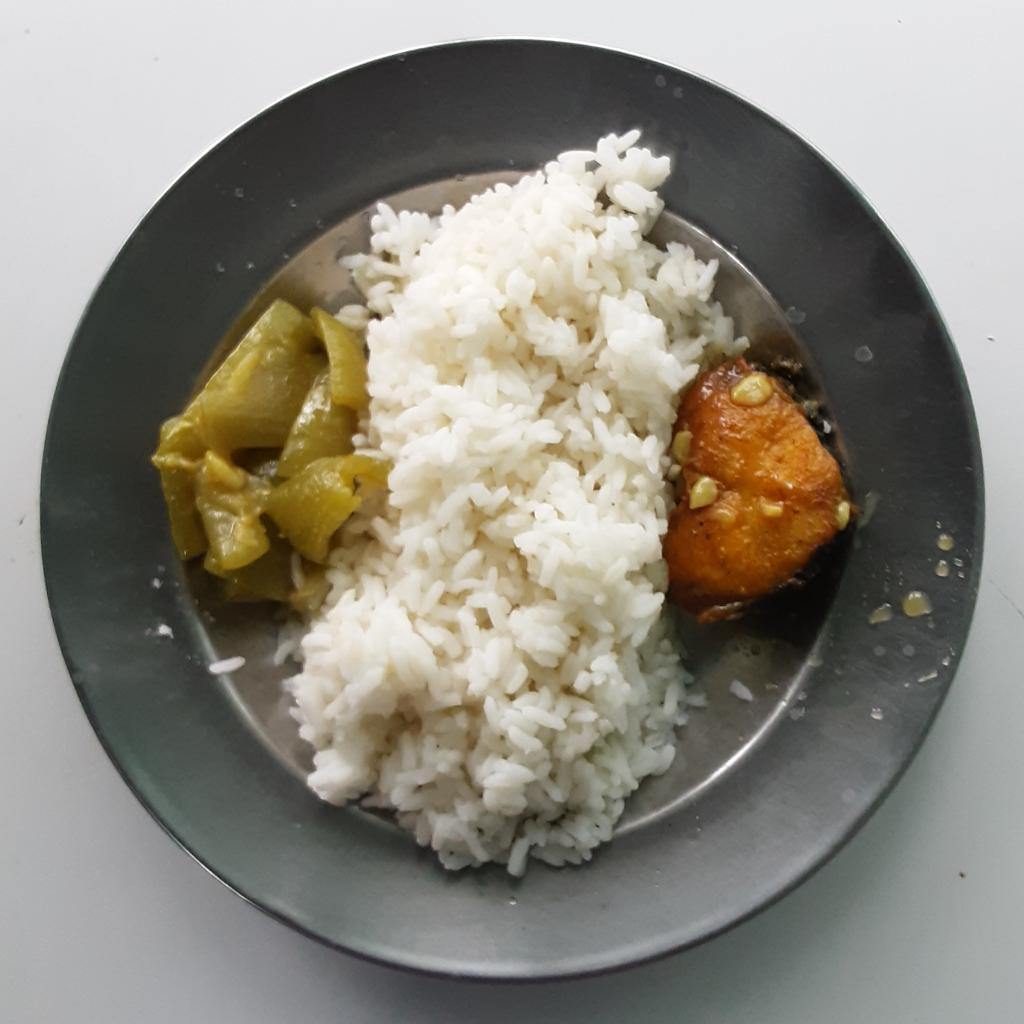dundol: (154, 292, 400, 610)
fish: (664, 357, 862, 618)
rice: (205, 125, 759, 878)
